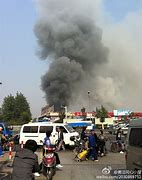smoke: (33, 1, 109, 104)
